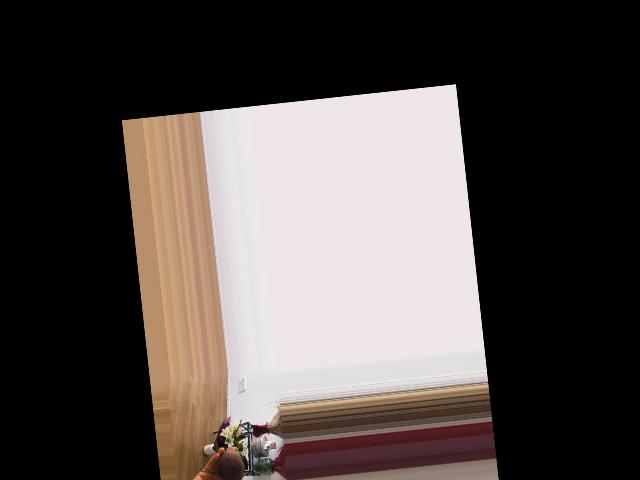beet: (197, 447, 249, 480)
